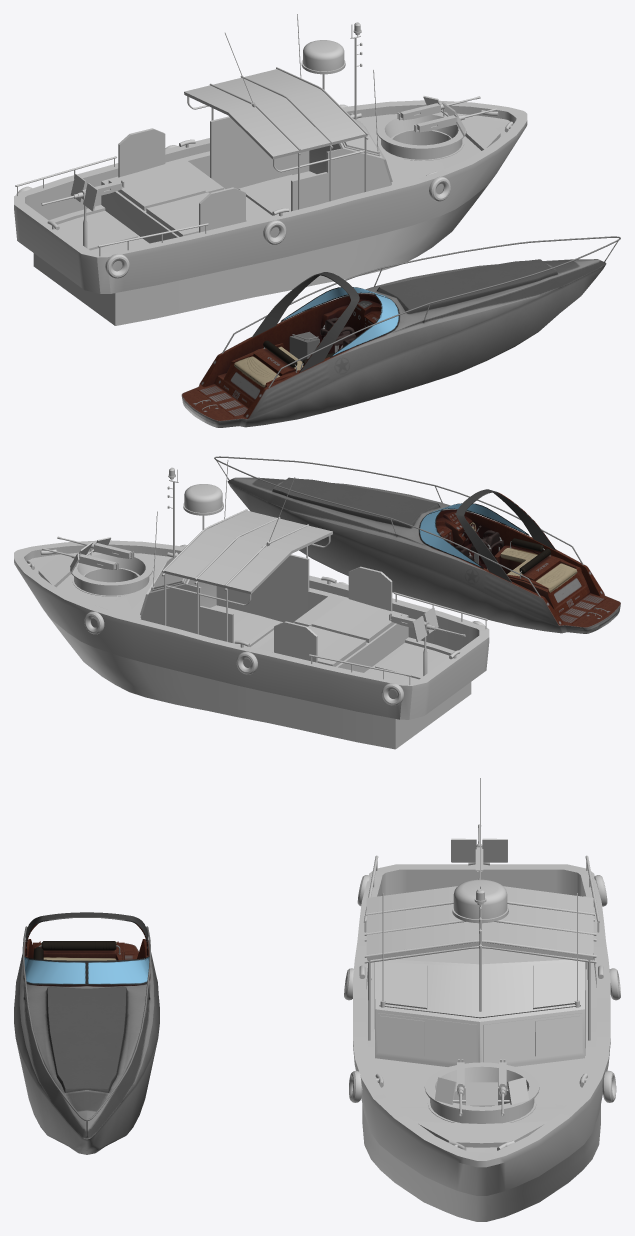
File: Boat1&2.fbx
The picture shows the model from 3 angles, top to bottom: view 1: azimuth 30°, elevation 25°; view 2: azimuth 150°, elevation 25°; view 3: azimuth 270°, elevation 25°; orthographic projection. The views are drawn at different scales.
Parts seen in each view (by area): view 1: Cube.026, Boat; view 2: Cube.026, Boat; view 3: Cube.026, Boat.
Part boxes in pixels (x1,y1,x2,y2): Cube.026: [14, 14, 527, 325]; Boat: [181, 236, 620, 427]; Cube.026: [14, 460, 489, 749]; Boat: [214, 456, 620, 633]; Cube.026: [344, 778, 620, 1221]; Boat: [14, 912, 159, 1154].
Bounding box in the file's own units: 2173 × 1012 × 1841.
